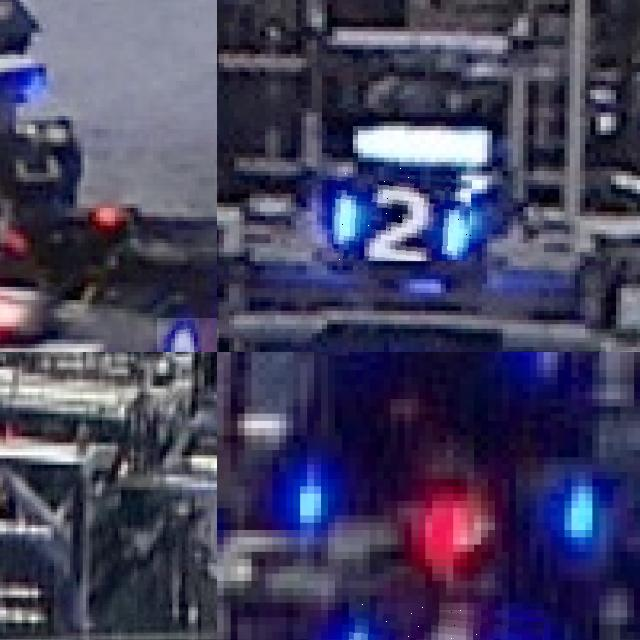B2: (332, 167, 472, 261)
B4: (349, 603, 544, 640)
R3: (156, 317, 217, 352)
